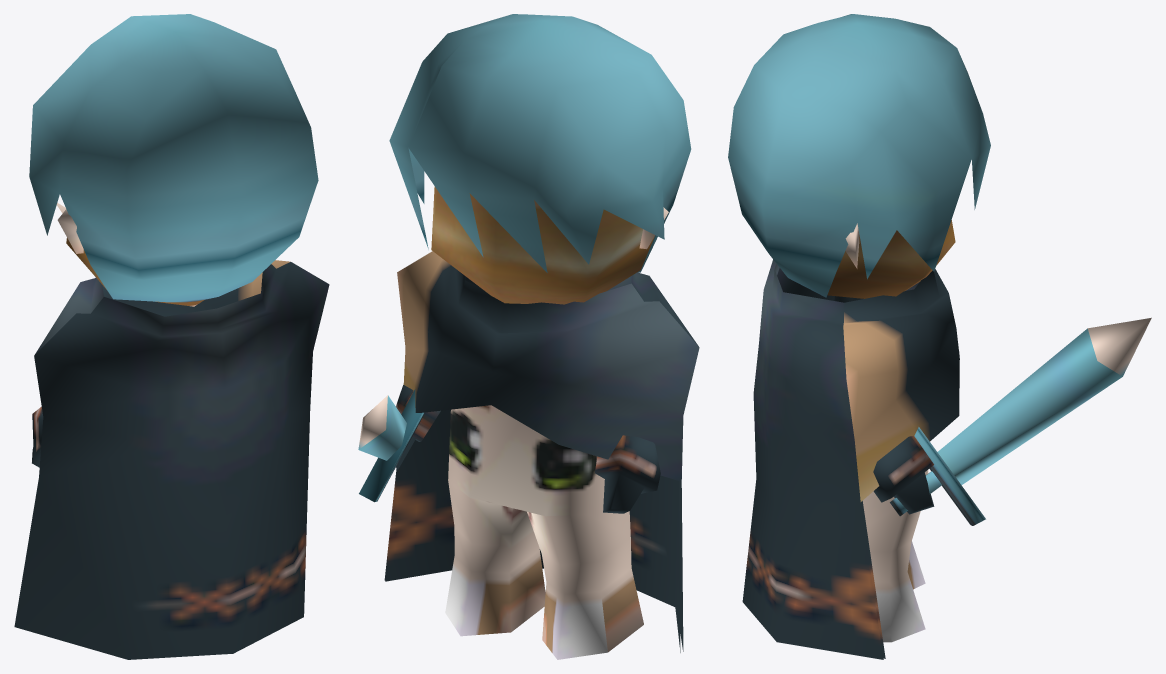
The model's file is VIEW.ICO.obj.
3 renders of one model, left to right at view 1: azimuth 30°, elevation 25°; view 2: azimuth 150°, elevation 25°; view 3: azimuth 270°, elevation 25°, orthographic. The views are drawn at different scales.
Size of the model in its own units: 2.07 by 3.91 by 2.57.
